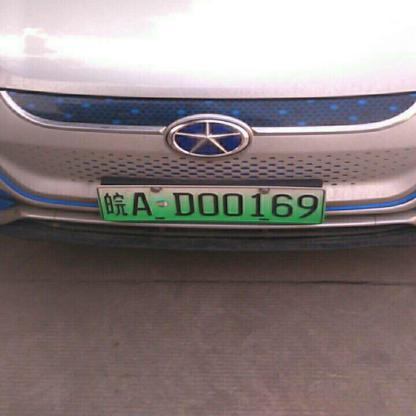lp: (96, 184, 324, 222)
